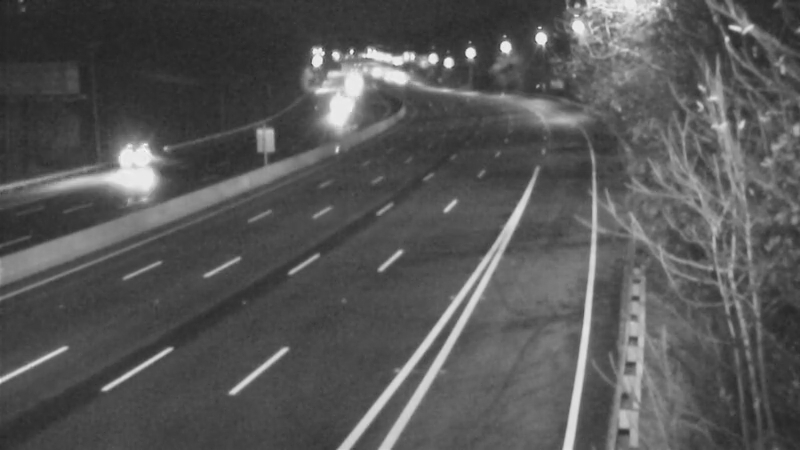vehicle: (94, 121, 174, 201), (378, 58, 428, 108), (310, 85, 360, 135)
